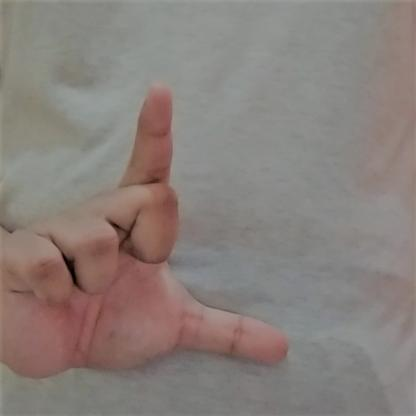L: (1, 76, 305, 408)
